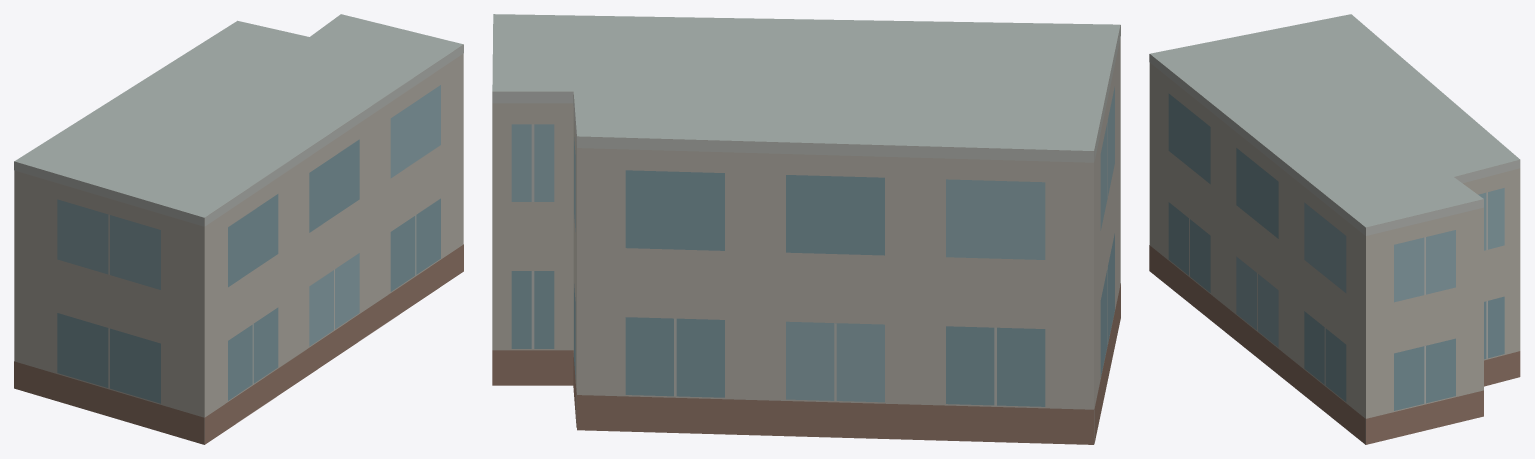
Rendered from survey-upis-32492347.glb.
3 views of the same model, side by side, from view 1: azimuth 30°, elevation 25°; view 2: azimuth 150°, elevation 25°; view 3: azimuth 270°, elevation 25° (orthographic). The views are drawn at different scales.
Parts seen in each view (by area): view 1: survey-upis-32492347.tmp; view 2: survey-upis-32492347.tmp; view 3: survey-upis-32492347.tmp.
Boxes of the visible parts, x1,y1,x2,y2 form: survey-upis-32492347.tmp: (14,14,463,444); survey-upis-32492347.tmp: (492,14,1120,444); survey-upis-32492347.tmp: (1149,14,1520,444).
Size of the model in its own units: 12.96 by 6.15 by 9.52.
